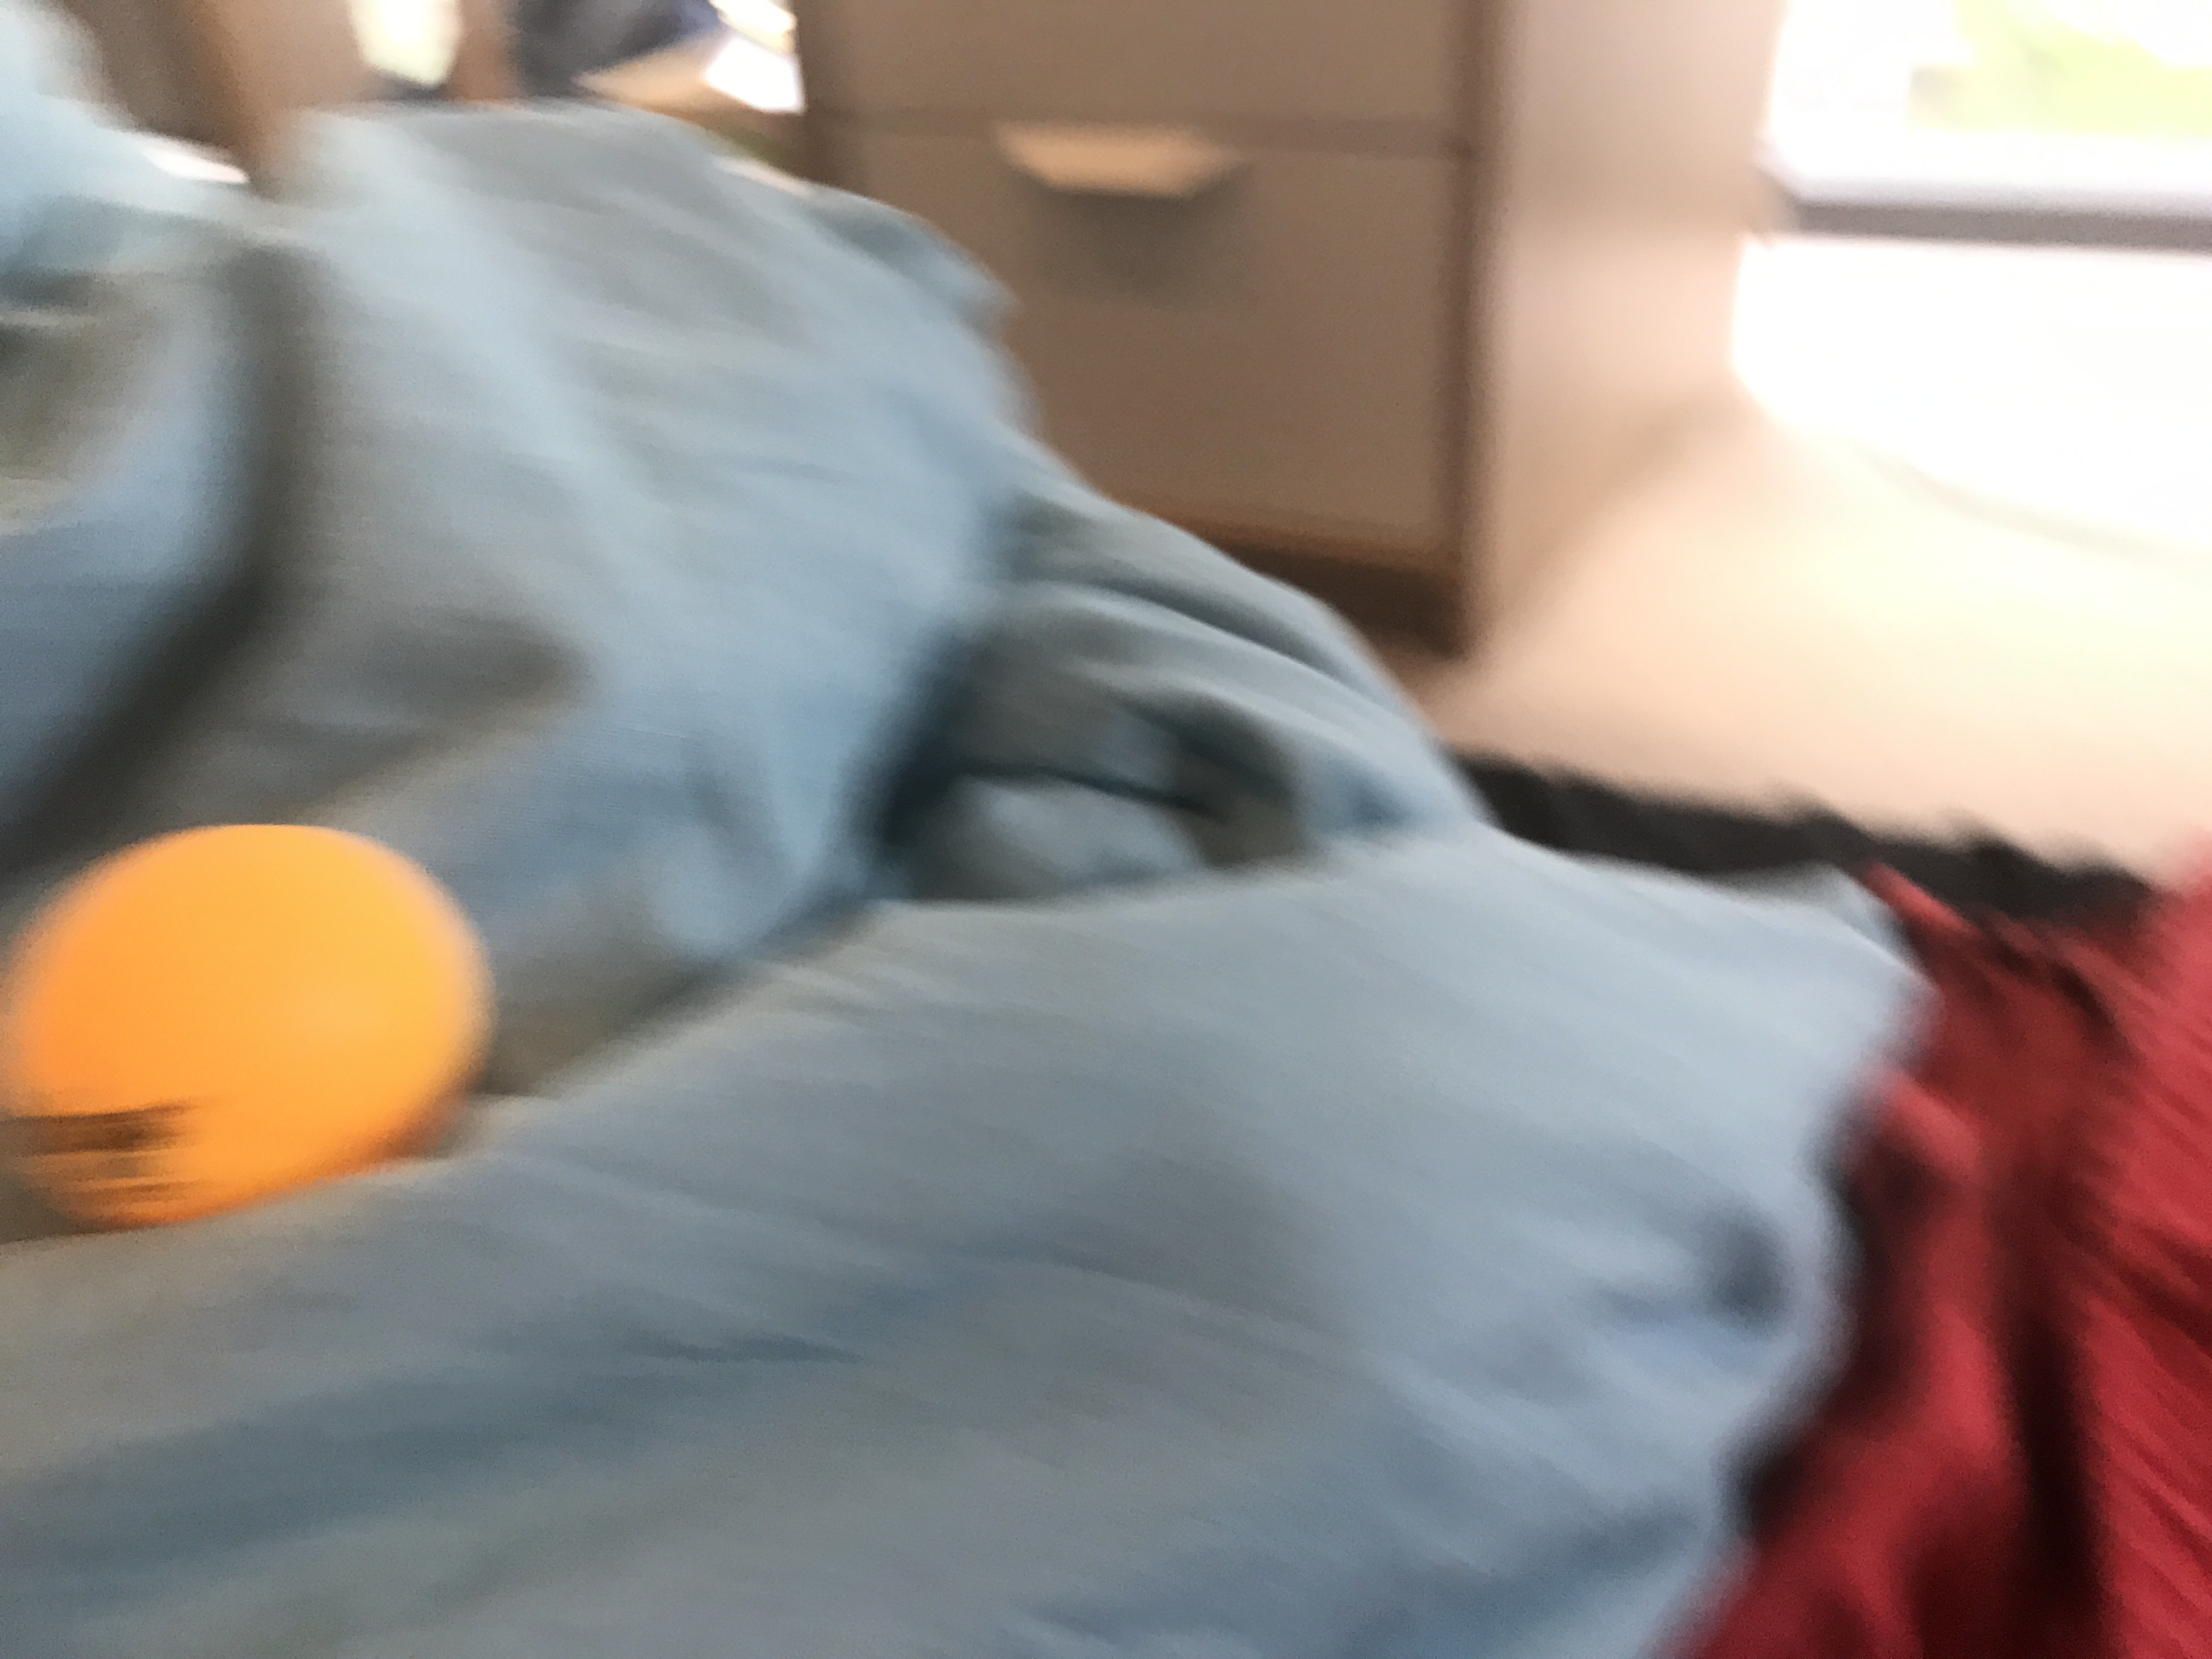pp: (3, 826, 521, 1243)
